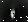person: (10, 9, 18, 20)
